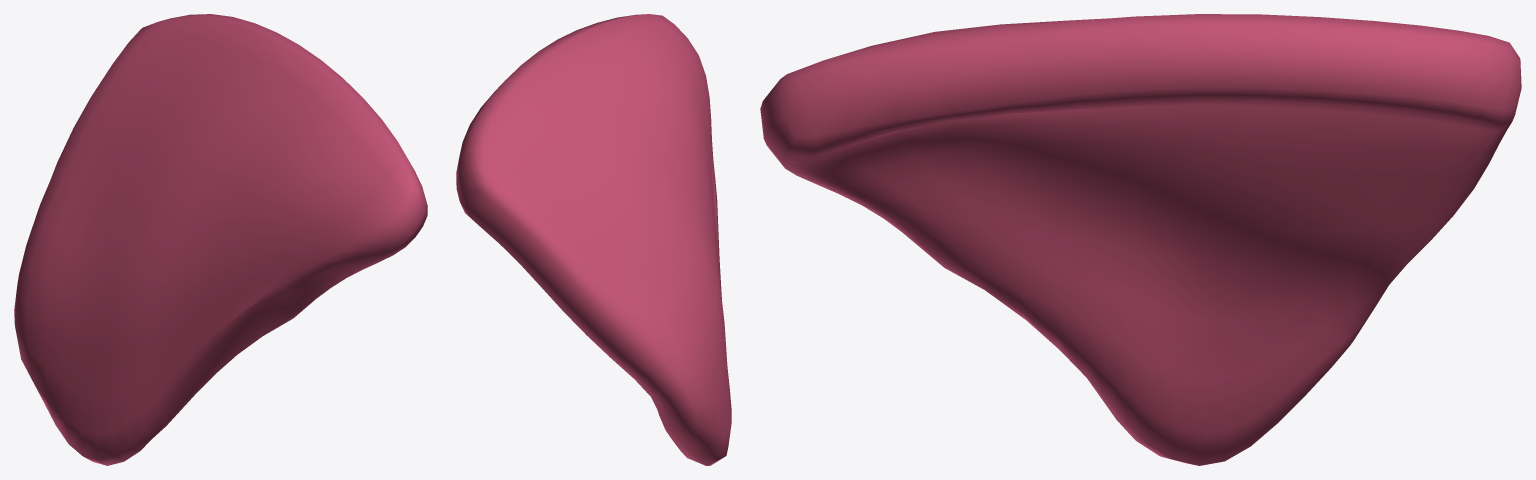
3 views of the same model, side by side, from view 1: azimuth 30°, elevation 25°; view 2: azimuth 150°, elevation 25°; view 3: azimuth 270°, elevation 25° (orthographic). The views are drawn at different scales.
Visible parts, largest first — view 1: 右侧股二头肌下腱下囊; view 2: 右侧股二头肌下腱下囊; view 3: 右侧股二头肌下腱下囊.
Part boxes in pixels (x1=…): 右侧股二头肌下腱下囊: x1=14, y1=14, x2=427, y2=465; 右侧股二头肌下腱下囊: x1=456, y1=14, x2=731, y2=465; 右侧股二头肌下腱下囊: x1=760, y1=14, x2=1521, y2=465.
Size of the model in its own units: 0.0148 by 0.0212 by 0.0247.
